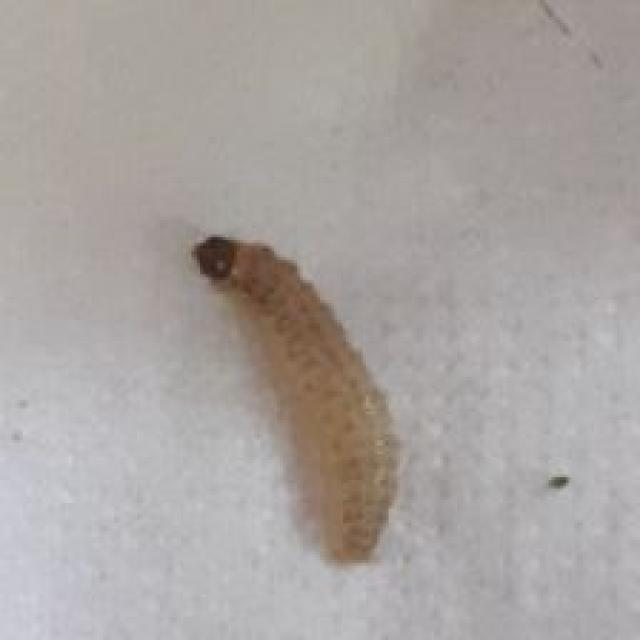white mucus: (163, 225, 440, 583)
